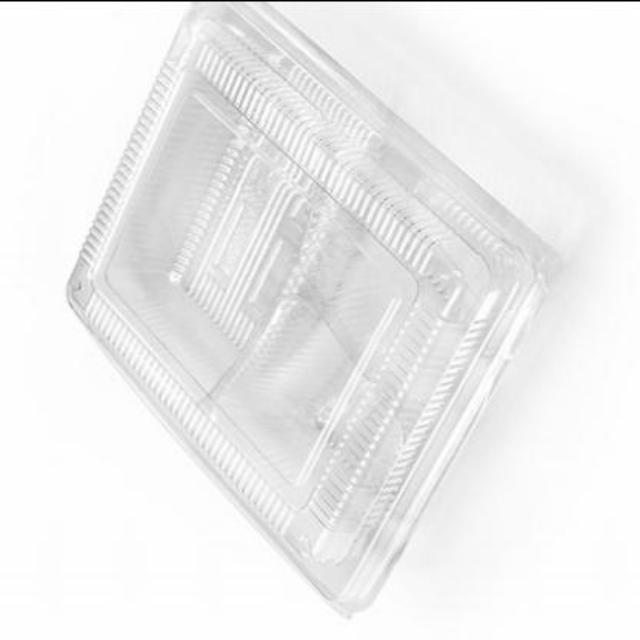plastic_box: (69, 2, 573, 626)
